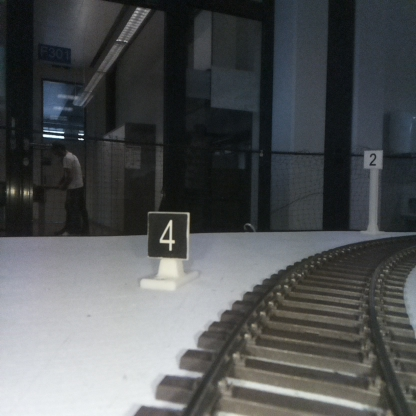black-stop-4: (148, 214, 187, 288)
white-info-2: (364, 150, 382, 233)
